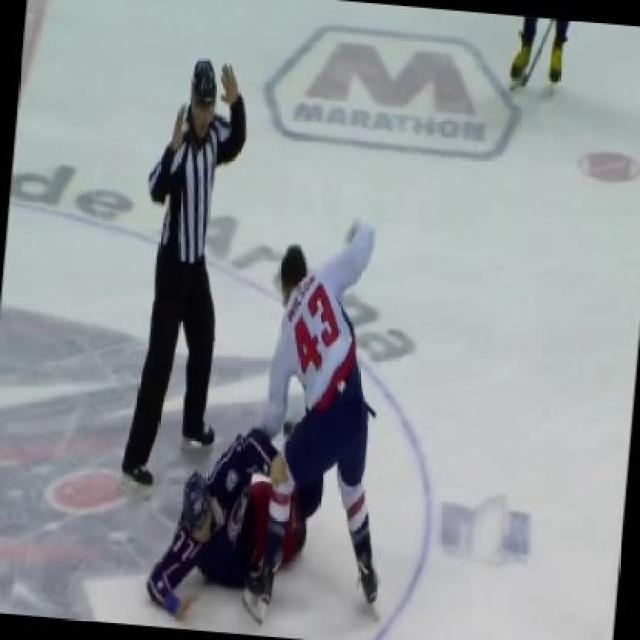fight: (150, 194, 378, 638)
non-fight: (104, 48, 261, 495)
